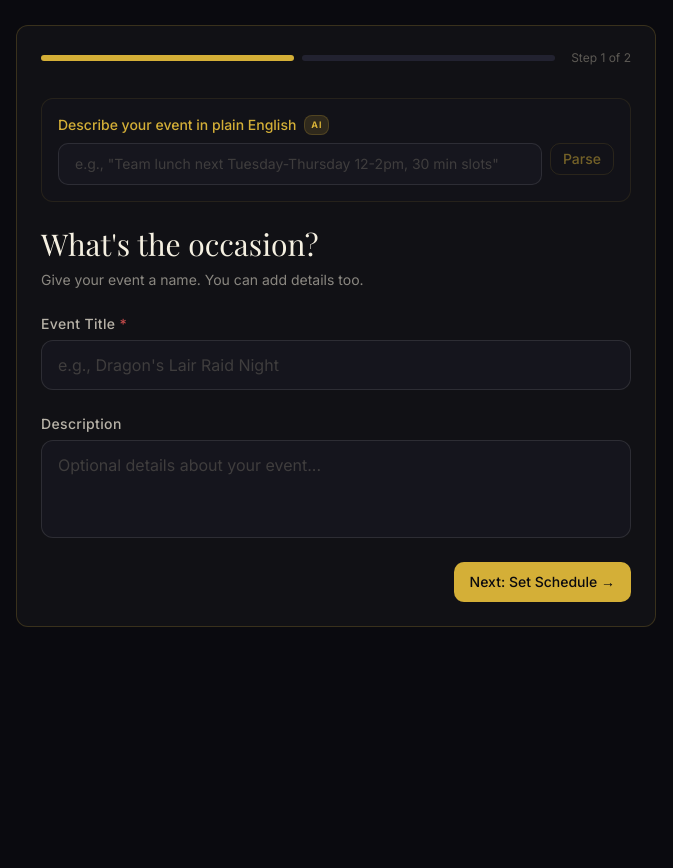
CreateEventPage › shows validation errors for schedule fields
Type "Dragon Raid" into the field labelled "Event Title*" at (336, 365), box top-left (41, 340), bottom-right (631, 390)
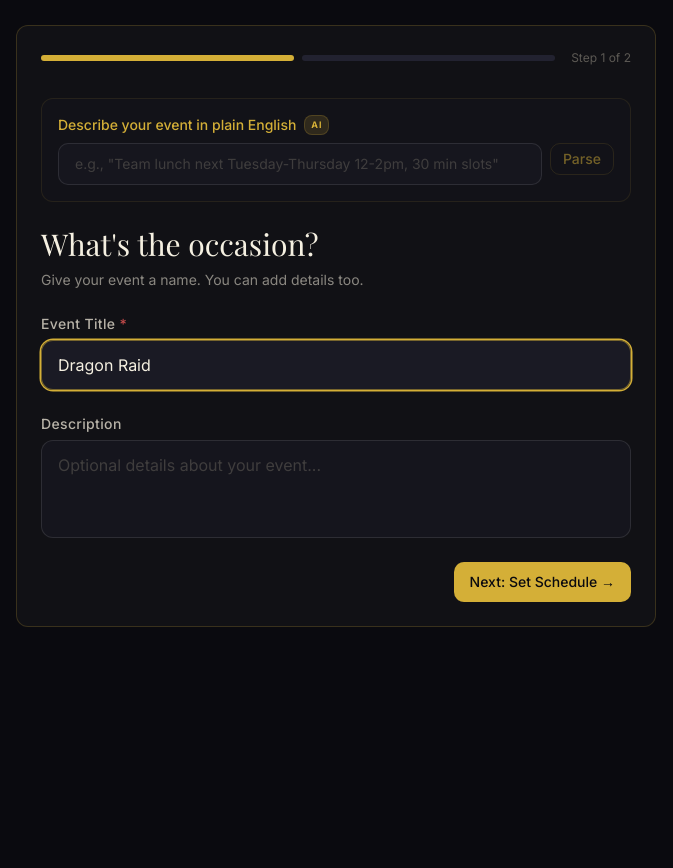
Click the button "Next: Set Schedule →" at (542, 582), box top-left (454, 562), bottom-right (631, 602)
(page scrolled)
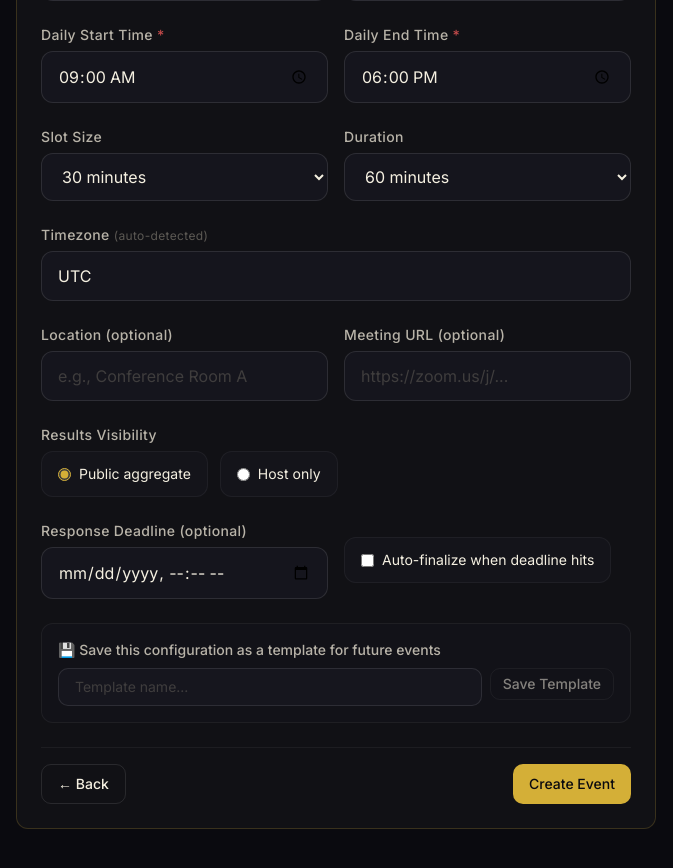
Click Create Event without filling schedule fields
Click the button "Create Event" at (572, 784), box top-left (513, 764), bottom-right (631, 804)
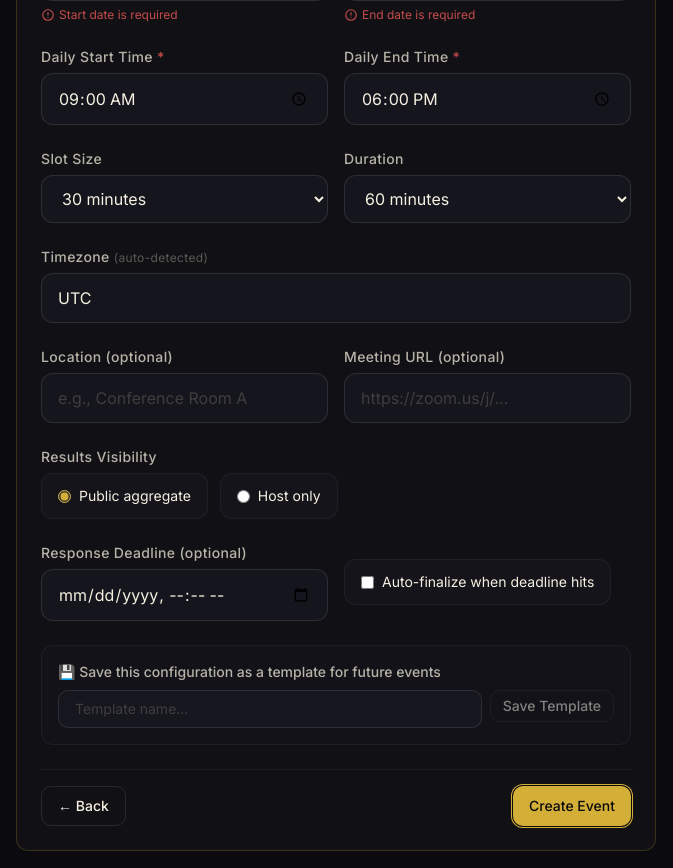
Now the text "Start date is required" is shown, box top-left (41, 7), bottom-right (178, 22)
Now the text "End date is required" is shown, box top-left (344, 7), bottom-right (475, 22)
